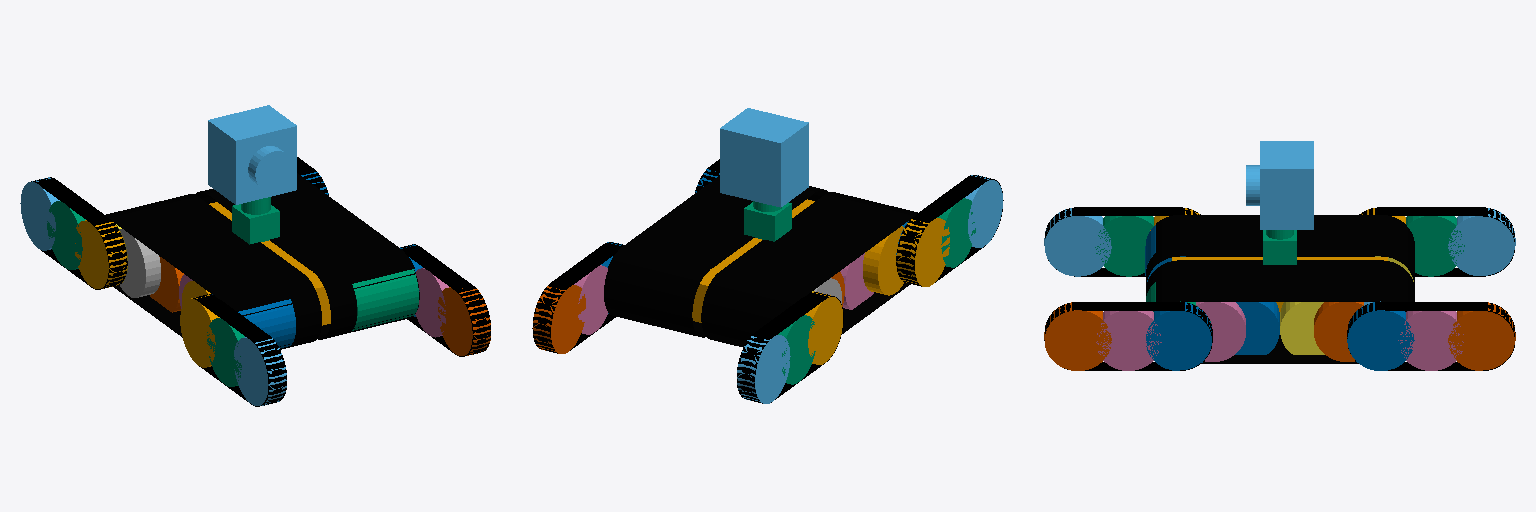
--- What the picture shows (computed from the rendered views, not written in the file) ---
3 views of the same robot in one strip: view 1: azimuth 30°, elevation 25°; view 2: azimuth 150°, elevation 25°; view 3: azimuth 270°, elevation 25° (orthographic).
Model crawler_robot with 31 links and 30 joints (30 fixed), rooted at crawler_robot__chassis, posed every joint at zero.
Visible links, largest first — view 1: crawler_robot__chassis, crawler_robot__camera_ros_link, crawler_robot__left_front_wheel, crawler_robot__right_front_arm, crawler_robot__right_rear_arm, crawler_robot__left_front_arm, crawler_robot__right_front_arm_wheel_2, crawler_robot__left_front_arm_wheel_2, crawler_robot__right_rear_arm_wheel_1, crawler_robot__right_sub_wheel_2, crawler_robot__hokuyo_ros_link, crawler_robot__right_front_arm_wheel_1 (+6 smaller); view 2: crawler_robot__chassis, crawler_robot__camera_ros_link, crawler_robot__right_rear_arm, crawler_robot__right_front_arm, crawler_robot__right_rear_arm_wheel_2, crawler_robot__left_rear_arm, crawler_robot__left_rear_arm_wheel_2, crawler_robot__right_front_arm_wheel_1, crawler_robot__right_sub_wheel_3, crawler_robot__right_front_arm_wheel_2, crawler_robot__right_rear_arm_wheel_1, crawler_robot__hokuyo_ros_link (+4 smaller); view 3: crawler_robot__chassis, crawler_robot__camera_ros_link, crawler_robot__right_front_arm_wheel_2, crawler_robot__left_front_arm_wheel_2, crawler_robot__left_rear_arm_wheel_1, crawler_robot__right_rear_arm_wheel_2, crawler_robot__left_rear_arm_wheel_2, crawler_robot__left_front_arm_wheel_1, crawler_robot__left_rear_arm_wheel_3, crawler_robot__left_front_arm_wheel_3, crawler_robot__right_front_arm_wheel_3, crawler_robot__right_rear_arm_wheel_3 (+9 smaller).
Boxes of the visible links, x1,y1,x2,y2 form: crawler_robot__chassis: [106, 173, 419, 349]; crawler_robot__camera_ros_link: [208, 105, 296, 204]; crawler_robot__left_front_wheel: [352, 269, 418, 330]; crawler_robot__right_front_arm: [193, 294, 286, 406]; crawler_robot__right_rear_arm: [31, 177, 127, 289]; crawler_robot__left_front_arm: [401, 244, 490, 356]; crawler_robot__right_front_arm_wheel_2: [234, 337, 286, 405]; crawler_robot__left_front_arm_wheel_2: [438, 287, 490, 355]; crawler_robot__right_rear_arm_wheel_1: [75, 220, 127, 288]; crawler_robot__right_sub_wheel_2: [119, 229, 160, 297]; crawler_robot__hokuyo_ros_link: [232, 197, 279, 244]; crawler_robot__right_front_arm_wheel_1: [180, 294, 219, 367]; crawler_robot__chassis: [604, 176, 917, 347]; crawler_robot__camera_ros_link: [720, 108, 808, 207]; crawler_robot__right_rear_arm: [737, 292, 843, 403]; crawler_robot__right_front_arm: [896, 175, 1003, 286]; crawler_robot__right_rear_arm_wheel_2: [737, 335, 790, 403]; crawler_robot__left_rear_arm: [532, 242, 623, 353]; crawler_robot__left_rear_arm_wheel_2: [533, 285, 585, 353]; crawler_robot__right_front_arm_wheel_1: [896, 218, 949, 286]; crawler_robot__right_sub_wheel_3: [863, 226, 903, 295]; crawler_robot__right_front_arm_wheel_2: [965, 175, 1002, 247]; crawler_robot__right_rear_arm_wheel_1: [805, 291, 842, 364]; crawler_robot__hokuyo_ros_link: [744, 201, 791, 241]; crawler_robot__chassis: [1146, 215, 1414, 363]; crawler_robot__camera_ros_link: [1246, 141, 1313, 229]; crawler_robot__right_front_arm_wheel_2: [1044, 208, 1111, 276]; crawler_robot__left_front_arm_wheel_2: [1044, 302, 1111, 370]; crawler_robot__left_rear_arm_wheel_1: [1347, 302, 1414, 370]; crawler_robot__right_rear_arm_wheel_2: [1448, 208, 1515, 275]; crawler_robot__left_rear_arm_wheel_2: [1448, 302, 1515, 370]; crawler_robot__left_front_arm_wheel_1: [1146, 302, 1211, 370]; crawler_robot__left_rear_arm_wheel_3: [1398, 311, 1463, 370]; crawler_robot__left_front_arm_wheel_3: [1096, 311, 1161, 370]; crawler_robot__right_front_arm_wheel_3: [1095, 216, 1153, 276]; crawler_robot__right_rear_arm_wheel_3: [1406, 216, 1464, 276].
Bounding box of the posed robot: 0.3622 × 0.7 × 0.28 m (x, y, z).
6 mesh visuals loaded from 2 distinct referenced files (2 Collada DAE).

The robot description file, URDF, robot "crawler_robot":
<?xml version="1.0" ?>
<robot name="crawler_robot">
  <joint name="crawler_robot__camera_joint" type="fixed">
    <parent link="crawler_robot__chassis"/>
    <child link="crawler_robot__camera_ros_link"/>
    <origin rpy="0    0   -1.57" xyz="0    0    0.22"/>
    <axis xyz="0  0  1"/>
    <limit effort="0.0" lower="0.0" upper="0.0" velocity="0.0"/>
  </joint>
  <joint name="crawler_robot__hokuyo_joint" type="fixed">
    <parent link="crawler_robot__chassis"/>
    <child link="crawler_robot__hokuyo_ros_link"/>
    <origin rpy="0    0   -1.57" xyz="0     0     0.135"/>
    <axis xyz="0  0  1"/>
    <limit effort="0.0" lower="0.0" upper="0.0" velocity="0.0"/>
  </joint>
  <joint name="crawler_robot__right_rear" type="fixed">
    <parent link="crawler_robot__chassis"/>
    <child link="crawler_robot__right_rear_wheel"/>
    <origin rpy="0      1.5707  0" xyz="-0.05  0.15  0.05"/>
    <axis xyz="0  0  1"/>
    <limit effort="0" lower="0" upper="0" velocity="0"/>
  </joint>
  <joint name="crawler_robot__right_front" type="fixed">
    <parent link="crawler_robot__chassis"/>
    <child link="crawler_robot__right_front_wheel"/>
    <origin rpy="0      1.5707  0" xyz="-0.05 -0.15  0.05"/>
    <axis xyz="0  0  1"/>
    <limit effort="0" lower="0" upper="0" velocity="0"/>
  </joint>
  <joint name="crawler_robot__right_center1" type="fixed">
    <parent link="crawler_robot__chassis"/>
    <child link="crawler_robot__right_center_wheel_1"/>
    <origin rpy="0      1.5707  0" xyz="-0.05  0.05  0.04"/>
    <axis xyz="0  0  1"/>
    <limit effort="0" lower="0" upper="0" velocity="0"/>
  </joint>
  <joint name="crawler_robot__right_center2" type="fixed">
    <parent link="crawler_robot__chassis"/>
    <child link="crawler_robot__right_center_wheel_2"/>
    <origin rpy="0      1.5707  0" xyz="-0.05 -0.05  0.04"/>
    <axis xyz="0  0  1"/>
    <limit effort="0" lower="0" upper="0" velocity="0"/>
  </joint>
  <joint name="crawler_robot__right_sub2" type="fixed">
    <parent link="crawler_robot__chassis"/>
    <child link="crawler_robot__right_sub_wheel_2"/>
    <origin rpy="0      1.5707  0" xyz="-0.15     0.1      0.04999"/>
    <axis xyz="0  0  1"/>
    <limit effort="0" lower="0" upper="0" velocity="0"/>
  </joint>
  <joint name="crawler_robot__right_sub3" type="fixed">
    <parent link="crawler_robot__chassis"/>
    <child link="crawler_robot__right_sub_wheel_3"/>
    <origin rpy="0      1.5707  0" xyz="-0.15    -0.1      0.04999"/>
    <axis xyz="0  0  1"/>
    <limit effort="0" lower="0" upper="0" velocity="0"/>
  </joint>
  <joint name="crawler_robot__left_rear" type="fixed">
    <parent link="crawler_robot__chassis"/>
    <child link="crawler_robot__left_rear_wheel"/>
    <origin rpy="0      1.5707  0" xyz="0.05     0.15     0.04999"/>
    <axis xyz="0  0  1"/>
    <limit effort="0" lower="0" upper="0" velocity="0"/>
  </joint>
  <joint name="crawler_robot__left_front" type="fixed">
    <parent link="crawler_robot__chassis"/>
    <child link="crawler_robot__left_front_wheel"/>
    <origin rpy="0      1.5707  0" xyz="0.05    -0.15     0.04999"/>
    <axis xyz="0  0  1"/>
    <limit effort="0" lower="0" upper="0" velocity="0"/>
  </joint>
  <joint name="crawler_robot__left_center1" type="fixed">
    <parent link="crawler_robot__chassis"/>
    <child link="crawler_robot__left_center_wheel_1"/>
    <origin rpy="0      1.5707  0" xyz="0.05     0.05     0.03999"/>
    <axis xyz="0  0  1"/>
    <limit effort="0" lower="0" upper="0" velocity="0"/>
  </joint>
  <joint name="crawler_robot__left_center2" type="fixed">
    <parent link="crawler_robot__chassis"/>
    <child link="crawler_robot__left_center_wheel_2"/>
    <origin rpy="0      1.5707  0" xyz="0.05    -0.05     0.03999"/>
    <axis xyz="0  0  1"/>
    <limit effort="0" lower="0" upper="0" velocity="0"/>
  </joint>
  <joint name="crawler_robot__left_sub2" type="fixed">
    <parent link="crawler_robot__chassis"/>
    <child link="crawler_robot__left_sub_wheel_2"/>
    <origin rpy="0      1.5707  0" xyz="0.05     0.1      0.04999"/>
    <axis xyz="0  0  1"/>
    <limit effort="0" lower="0" upper="0" velocity="0"/>
  </joint>
  <joint name="crawler_robot__left_sub3" type="fixed">
    <parent link="crawler_robot__chassis"/>
    <child link="crawler_robot__left_sub_wheel_3"/>
    <origin rpy="0      1.5707  0" xyz="0.05    -0.1      0.04999"/>
    <axis xyz="0  0  1"/>
    <limit effort="0" lower="0" upper="0" velocity="0"/>
  </joint>
  <joint name="crawler_robot__left_rear_arm" type="fixed">
    <parent link="crawler_robot__chassis"/>
    <child link="crawler_robot__left_rear_arm"/>
    <origin rpy="0  0  0" xyz="0.151  0.15   0.051"/>
    <axis xyz="1  0  0"/>
    <limit effort="0.0" lower="0.0" upper="0.0" velocity="1.0"/>
  </joint>
  <joint name="crawler_robot__right_rear_arm" type="fixed">
    <parent link="crawler_robot__chassis"/>
    <child link="crawler_robot__right_rear_arm"/>
    <origin rpy="0  0  0" xyz="-0.151  0.15   0.049"/>
    <axis xyz="1  0  0"/>
    <limit effort="0.0" lower="0.0" upper="0.0" velocity="1.0"/>
  </joint>
  <joint name="crawler_robot__left_front_arm" type="fixed">
    <parent link="crawler_robot__chassis"/>
    <child link="crawler_robot__left_front_arm"/>
    <origin rpy="0  0  0" xyz="0.151 -0.15   0.051"/>
    <axis xyz="1  0  0"/>
    <limit effort="0.0" lower="0.0" upper="0.0" velocity="1.0"/>
  </joint>
  <joint name="crawler_robot__right_front_arm" type="fixed">
    <parent link="crawler_robot__chassis"/>
    <child link="crawler_robot__right_front_arm"/>
    <origin rpy="0  0  0" xyz="-0.151 -0.15   0.049"/>
    <axis xyz="1  0  0"/>
    <limit effort="0.0" lower="0.0" upper="0.0" velocity="1.0"/>
  </joint>
  <joint name="crawler_robot__right_rear_arm_wheel_1" type="fixed">
    <parent link="crawler_robot__right_rear_arm"/>
    <child link="crawler_robot__right_rear_arm_wheel_1"/>
    <origin rpy="0      1.5707  0" xyz="0     0     0.001"/>
    <axis xyz="0  0  1"/>
    <limit effort="0" lower="0" upper="0" velocity="0"/>
  </joint>
  <joint name="crawler_robot__right_rear_arm_wheel_2" type="fixed">
    <parent link="crawler_robot__right_rear_arm"/>
    <child link="crawler_robot__right_rear_arm_wheel_2"/>
    <origin rpy="0      1.5707  0" xyz="0     0.15   0.001"/>
    <axis xyz="0  0  1"/>
    <limit effort="0" lower="0" upper="0" velocity="0"/>
  </joint>
  <joint name="crawler_robot__right_rear_arm_wheel_3" type="fixed">
    <parent link="crawler_robot__right_rear_arm"/>
    <child link="crawler_robot__right_rear_arm_wheel_3"/>
    <origin rpy="0      1.5707  0" xyz="0     0.075  0.001"/>
    <axis xyz="0  0  1"/>
    <limit effort="0" lower="0" upper="0" velocity="0"/>
  </joint>
  <joint name="crawler_robot__right_front_arm_wheel_1" type="fixed">
    <parent link="crawler_robot__right_front_arm"/>
    <child link="crawler_robot__right_front_arm_wheel_1"/>
    <origin rpy="0      1.5707  0" xyz="0     0     0.001"/>
    <axis xyz="0  0  1"/>
    <limit effort="0" lower="0" upper="0" velocity="0"/>
  </joint>
  <joint name="crawler_robot__right_front_arm_wheel_2" type="fixed">
    <parent link="crawler_robot__right_front_arm"/>
    <child link="crawler_robot__right_front_arm_wheel_2"/>
    <origin rpy="0      1.5707  0" xyz="0    -0.15   0.001"/>
    <axis xyz="0  0  1"/>
    <limit effort="0" lower="0" upper="0" velocity="0"/>
  </joint>
  <joint name="crawler_robot__right_front_arm_wheel_3" type="fixed">
    <parent link="crawler_robot__right_front_arm"/>
    <child link="crawler_robot__right_front_arm_wheel_3"/>
    <origin rpy="0      1.5707  0" xyz="0    -0.075  0.001"/>
    <axis xyz="0  0  1"/>
    <limit effort="0" lower="0" upper="0" velocity="0"/>
  </joint>
  <joint name="crawler_robot__left_rear_arm_wheel_1" type="fixed">
    <parent link="crawler_robot__left_rear_arm"/>
    <child link="crawler_robot__left_rear_arm_wheel_1"/>
    <origin rpy="0      1.5707  0" xyz="0     0    -0.001"/>
    <axis xyz="0  0  1"/>
    <limit effort="0" lower="0" upper="0" velocity="0"/>
  </joint>
  <joint name="crawler_robot__left_rear_arm_wheel_2" type="fixed">
    <parent link="crawler_robot__left_rear_arm"/>
    <child link="crawler_robot__left_rear_arm_wheel_2"/>
    <origin rpy="0      1.5707  0" xyz="0     0.15  -0.001"/>
    <axis xyz="0  0  1"/>
    <limit effort="0" lower="0" upper="0" velocity="0"/>
  </joint>
  <joint name="crawler_robot__left_rear_arm_wheel_3" type="fixed">
    <parent link="crawler_robot__left_rear_arm"/>
    <child link="crawler_robot__left_rear_arm_wheel_3"/>
    <origin rpy="0      1.5707  0" xyz="0     0.075 -0.001"/>
    <axis xyz="0  0  1"/>
    <limit effort="0" lower="0" upper="0" velocity="0"/>
  </joint>
  <joint name="crawler_robot__left_front_arm_wheel_1" type="fixed">
    <parent link="crawler_robot__left_front_arm"/>
    <child link="crawler_robot__left_front_arm_wheel_1"/>
    <origin rpy="0      1.5707  0" xyz="0     0    -0.001"/>
    <axis xyz="0  0  1"/>
    <limit effort="0" lower="0" upper="0" velocity="0"/>
  </joint>
  <joint name="crawler_robot__left_front_arm_wheel_2" type="fixed">
    <parent link="crawler_robot__left_front_arm"/>
    <child link="crawler_robot__left_front_arm_wheel_2"/>
    <origin rpy="0      1.5707  0" xyz="0    -0.15  -0.001"/>
    <axis xyz="0  0  1"/>
    <limit effort="0" lower="0" upper="0" velocity="0"/>
  </joint>
  <joint name="crawler_robot__left_front_arm_wheel_3" type="fixed">
    <parent link="crawler_robot__left_front_arm"/>
    <child link="crawler_robot__left_front_arm_wheel_3"/>
    <origin rpy="0      1.5707  0" xyz="0    -0.075 -0.001"/>
    <axis xyz="0  0  1"/>
    <limit effort="0" lower="0" upper="0" velocity="0"/>
  </joint>
  <link name="crawler_robot__chassis">
    <inertial>
      <mass value="20"/>
      <origin rpy="0  0  0" xyz="0    0    0.05"/>
      <inertia ixx="1.696e-01" ixy="0" ixz="0" iyy="2.176e-02" iyz="0" izz="1.7984e-01"/>
    </inertial>
    <collision name="crawler_robot__collision">
      <origin rpy="0  0  0" xyz="0    0    0.05"/>
      <geometry>
        <box size=".1 .32 .06"/>
      </geometry>
    </collision>
    <visual name="crawler_robot__visual">
      <origin rpy="0  0  0" xyz="0    0    0.05"/>
      <geometry>
        <box size=".1 .32 .06"/>
      </geometry>
    </visual>
    <visual name="crawler_robot__crawler_visual_R">
      <origin rpy="0      0      1.5707" xyz="-0.08  0    0.05"/>
      <geometry>
        <mesh filename="package://PATHTOMESHES/dae/crawler.dae" scale="1.0 1.0 1.0"/>
      </geometry>
    </visual>
    <visual name="crawler_robot__crawler_visual_L">
      <origin rpy="0      0      1.5707" xyz="0.08  0    0.05"/>
      <geometry>
        <mesh filename="package://PATHTOMESHES/dae/crawler.dae" scale="1.0 1.0 1.0"/>
      </geometry>
    </visual>
  </link>
  <link name="crawler_robot__camera_ros_link">
    <inertial>
      <mass value="0.1"/>
      <origin rpy="0  0  0" xyz="0  0  0"/>
      <inertia ixx="0.000166667" ixy="0" ixz="0" iyy="0.000166667" iyz="0" izz="0.000166667"/>
    </inertial>
    <collision name="crawler_robot__collision-box">
      <origin rpy="0  0  0" xyz="-0.01  0    0"/>
      <geometry>
        <box size="0.08 0.1 0.1"/>
      </geometry>
    </collision>
    <collision name="crawler_robot__collision-lens">
      <origin rpy="0    1.57  0" xyz="0.04  0    0"/>
      <geometry>
        <cylinder length="0.02" radius="0.03"/>
      </geometry>
    </collision>
    <visual name="crawler_robot__visual-box">
      <origin rpy="0  0  0" xyz="-0.01  0    0"/>
      <geometry>
        <box size="0.08 0.1 0.1"/>
      </geometry>
    </visual>
    <visual name="crawler_robot__visual-lens">
      <origin rpy="0    1.57  0" xyz="0.04  0    0"/>
      <geometry>
        <cylinder length="0.02" radius="0.03"/>
      </geometry>
    </visual>
  </link>
  <link name="crawler_robot__hokuyo_ros_link">
    <inertial>
      <mass value="0.1"/>
      <origin rpy="0  0  0" xyz="0  0  0"/>
      <inertia ixx="0.6205208333e-04" ixy="0" ixz="0" iyy="0.6205208333e-04" iyz="0" izz="4.1927083333e-05"/>
    </inertial>
    <collision name="crawler_robot__collision-base">
      <origin rpy="0  0  0" xyz="0      0     -0.0145"/>
      <geometry>
        <box size="0.05 0.05 0.041"/>
      </geometry>
    </collision>
    <collision name="crawler_robot__collision-top">
      <origin rpy="0  0  0" xyz="0      0      0.0205"/>
      <geometry>
        <cylinder length="0.029" radius="0.021"/>
      </geometry>
    </collision>
    <visual name="crawler_robot__visual-base">
      <origin rpy="0  0  0" xyz="0      0     -0.0145"/>
      <geometry>
        <box size="0.05 0.05 0.041"/>
      </geometry>
    </visual>
    <visual name="crawler_robot__visual-top">
      <origin rpy="0  0  0" xyz="0      0      0.0205"/>
      <geometry>
        <cylinder length="0.029" radius="0.021"/>
      </geometry>
    </visual>
  </link>
  <link name="crawler_robot__right_rear_wheel">
    <inertial>
      <mass value="1.0"/>
      <origin rpy="0  0  0" xyz="0    0   -0.05"/>
      <inertia ixx="1.3744467859e-03" ixy="0" ixz="0" iyy="1.3744467859e-03" iyz="0" izz="11.780972451e-04"/>
    </inertial>
    <collision name="crawler_robot__collision">
      <origin rpy="0  0  0" xyz="0    0   -0.05"/>
      <geometry>
        <cylinder length=".1" radius=".05"/>
      </geometry>
    </collision>
    <visual name="crawler_robot__visual">
      <origin rpy="0  0  0" xyz="0    0   -0.05"/>
      <geometry>
        <cylinder length=".1" radius=".05"/>
      </geometry>
    </visual>
  </link>
  <link name="crawler_robot__right_front_wheel">
    <inertial>
      <mass value="1.0"/>
      <origin rpy="0  0  0" xyz="0    0   -0.05"/>
      <inertia ixx="1.3744467859e-03" ixy="0" ixz="0" iyy="1.3744467859e-03" iyz="0" izz="11.780972451e-04"/>
    </inertial>
    <collision name="crawler_robot__collision">
      <origin rpy="0  0  0" xyz="0    0   -0.05"/>
      <geometry>
        <cylinder length=".1" radius=".05"/>
      </geometry>
    </collision>
    <visual name="crawler_robot__visual">
      <origin rpy="0  0  0" xyz="0    0   -0.05"/>
      <geometry>
        <cylinder length=".1" radius=".05"/>
      </geometry>
    </visual>
  </link>
  <link name="crawler_robot__right_center_wheel_1">
    <inertial>
      <mass value="1.0"/>
      <origin rpy="0  0  0" xyz="0    0   -0.05"/>
      <inertia ixx="7.5267323992e-04" ixy="0" ixz="0" iyy="7.5267323992e-04" iyz="0" izz="11.2900985988e-04"/>
    </inertial>
    <collision name="crawler_robot__collision">
      <origin rpy="0  0  0" xyz="0    0   -0.05"/>
      <geometry>
        <cylinder length=".05" radius=".05"/>
      </geometry>
    </collision>
    <visual name="crawler_robot__visual">
      <origin rpy="0  0  0" xyz="0    0   -0.05"/>
      <geometry>
        <cylinder length=".05" radius=".05"/>
      </geometry>
    </visual>
  </link>
  <link name="crawler_robot__right_center_wheel_2">
    <inertial>
      <mass value="1.0"/>
      <origin rpy="0  0  0" xyz="0    0   -0.05"/>
      <inertia ixx="7.5267323992e-04" ixy="0" ixz="0" iyy="7.5267323992e-04" iyz="0" izz="11.2900985988e-04"/>
    </inertial>
    <collision name="crawler_robot__collision">
      <origin rpy="0  0  0" xyz="0    0   -0.05"/>
      <geometry>
        <cylinder length=".05" radius=".05"/>
      </geometry>
    </collision>
    <visual name="crawler_robot__visual">
      <origin rpy="0  0  0" xyz="0    0   -0.05"/>
      <geometry>
        <cylinder length=".05" radius=".05"/>
      </geometry>
    </visual>
  </link>
  <link name="crawler_robot__right_sub_wheel_2">
    <inertial>
      <mass value="1.0"/>
      <origin rpy="0  0  0" xyz="0    0    0.05"/>
      <inertia ixx="1.3744467859e-03" ixy="0" ixz="0" iyy="1.3744467859e-03" iyz="0" izz="11.780972451e-04"/>
    </inertial>
    <collision name="crawler_robot__collision">
      <origin rpy="0  0  0" xyz="0    0    0.05"/>
      <geometry>
        <cylinder length=".1" radius=".05"/>
      </geometry>
    </collision>
    <visual name="crawler_robot__visual">
      <origin rpy="0  0  0" xyz="0    0    0.05"/>
      <geometry>
        <cylinder length=".1" radius=".05"/>
      </geometry>
    </visual>
  </link>
  <link name="crawler_robot__right_sub_wheel_3">
    <inertial>
      <mass value="1.0"/>
      <origin rpy="0  0  0" xyz="0    0    0.05"/>
      <inertia ixx="1.3744467859e-03" ixy="0" ixz="0" iyy="1.3744467859e-03" iyz="0" izz="11.780972451e-04"/>
    </inertial>
    <collision name="crawler_robot__collision">
      <origin rpy="0  0  0" xyz="0    0    0.05"/>
      <geometry>
        <cylinder length=".1" radius=".05"/>
      </geometry>
    </collision>
    <visual name="crawler_robot__visual">
      <origin rpy="0  0  0" xyz="0    0    0.05"/>
      <geometry>
        <cylinder length=".1" radius=".05"/>
      </geometry>
    </visual>
  </link>
  <link name="crawler_robot__left_rear_wheel">
    <inertial>
      <mass value="1.0"/>
      <origin rpy="0  0  0" xyz="0    0    0.05"/>
      <inertia ixx="1.3744467859e-03" ixy="0" ixz="0" iyy="1.3744467859e-03" iyz="0" izz="11.780972451e-04"/>
    </inertial>
    <collision name="crawler_robot__collision">
      <origin rpy="0  0  0" xyz="0    0    0.05"/>
      <geometry>
        <cylinder length=".1" radius=".05"/>
      </geometry>
    </collision>
    <visual name="crawler_robot__visual">
      <origin rpy="0  0  0" xyz="0    0    0.05"/>
      <geometry>
        <cylinder length=".1" radius=".05"/>
      </geometry>
    </visual>
  </link>
  <link name="crawler_robot__left_front_wheel">
    <inertial>
      <mass value="1.0"/>
      <origin rpy="0  0  0" xyz="0    0    0.05"/>
      <inertia ixx="1.3744467859e-03" ixy="0" ixz="0" iyy="1.3744467859e-03" iyz="0" izz="11.780972451e-04"/>
    </inertial>
    <collision name="crawler_robot__collision">
      <origin rpy="0  0  0" xyz="0    0    0.05"/>
      <geometry>
        <cylinder length=".1" radius=".05"/>
      </geometry>
    </collision>
    <visual name="crawler_robot__visual">
      <origin rpy="0  0  0" xyz="0    0    0.05"/>
      <geometry>
        <cylinder length=".1" radius=".05"/>
      </geometry>
    </visual>
  </link>
  <link name="crawler_robot__left_center_wheel_1">
    <inertial>
      <mass value="1.0"/>
      <origin rpy="0  0  0" xyz="0    0    0.05"/>
      <inertia ixx="7.5267323992e-04" ixy="0" ixz="0" iyy="7.5267323992e-04" iyz="0" izz="11.2900985988e-04"/>
    </inertial>
    <collision name="crawler_robot__collision">
      <origin rpy="0  0  0" xyz="0    0    0.05"/>
      <geometry>
        <cylinder length=".05" radius=".05"/>
      </geometry>
    </collision>
    <visual name="crawler_robot__visual">
      <origin rpy="0  0  0" xyz="0    0    0.05"/>
      <geometry>
        <cylinder length=".05" radius=".05"/>
      </geometry>
    </visual>
  </link>
  <link name="crawler_robot__left_center_wheel_2">
    <inertial>
      <mass value="1.0"/>
      <origin rpy="0  0  0" xyz="0    0    0.05"/>
      <inertia ixx="7.5267323992e-04" ixy="0" ixz="0" iyy="7.5267323992e-04" iyz="0" izz="11.2900985988e-04"/>
    </inertial>
    <collision name="crawler_robot__collision">
      <origin rpy="0  0  0" xyz="0    0    0.05"/>
      <geometry>
        <cylinder length=".05" radius=".05"/>
      </geometry>
    </collision>
    <visual name="crawler_robot__visual">
      <origin rpy="0  0  0" xyz="0    0    0.05"/>
      <geometry>
        <cylinder length=".05" radius=".05"/>
      </geometry>
    </visual>
  </link>
  <link name="crawler_robot__left_sub_wheel_2">
    <inertial>
      <mass value="1.0"/>
      <origin rpy="0  0  0" xyz="0    0    0.05"/>
      <inertia ixx="1.3744467859e-03" ixy="0" ixz="0" iyy="1.3744467859e-03" iyz="0" izz="11.780972451e-04"/>
    </inertial>
    <collision name="crawler_robot__collision">
      <origin rpy="0  0  0" xyz="0    0    0.05"/>
      <geometry>
        <cylinder length=".1" radius=".05"/>
      </geometry>
    </collision>
    <visual name="crawler_robot__visual">
      <origin rpy="0  0  0" xyz="0    0    0.05"/>
      <geometry>
        <cylinder length=".1" radius=".05"/>
      </geometry>
    </visual>
  </link>
  <link name="crawler_robot__left_sub_wheel_3">
    <inertial>
      <mass value="1.0"/>
      <origin rpy="0  0  0" xyz="0    0    0.05"/>
      <inertia ixx="1.3744467859e-03" ixy="0" ixz="0" iyy="1.3744467859e-03" iyz="0" izz="11.780972451e-04"/>
    </inertial>
    <collision name="crawler_robot__collision">
      <origin rpy="0  0  0" xyz="0    0    0.05"/>
      <geometry>
        <cylinder length=".1" radius=".05"/>
      </geometry>
    </collision>
    <visual name="crawler_robot__visual">
      <origin rpy="0  0  0" xyz="0    0    0.05"/>
      <geometry>
        <cylinder length=".1" radius=".05"/>
      </geometry>
    </visual>
  </link>
  <link name="crawler_robot__right_rear_arm">
    <inertial>
      <mass value="1.0"/>
      <origin rpy="1.57  0    1.57" xyz="-0.015  0.075  0.001"/>
      <inertia ixx="6.8125e-4" ixy="0" ixz="0" iyy="3.96253e-3" iyz="0" izz="4.53125e-3"/>
    </inertial>
    <visual name="crawler_robot__crawler_visual">
      <origin rpy="0    0    1.57" xyz="-0.015  0.075 -0.049"/>
      <geometry>
        <mesh filename="package://PATHTOMESHES/dae/arm_crawler_2.dae" scale="1.0 1.0 1.0"/>
      </geometry>
    </visual>
  </link>
  <link name="crawler_robot__right_rear_arm_wheel_1">
    <inertial>
      <mass value="1.0"/>
      <origin rpy="0  0  0" xyz="0     0    -0.015"/>
      <inertia ixx="6.2674773439e-04" ixy="0" ixz="0" iyy="6.2674773439e-04" iyz="0" izz="11.1919238284e-04"/>
    </inertial>
    <collision name="crawler_robot__collision">
      <origin rpy="0  0  0" xyz="0     0    -0.015"/>
      <geometry>
        <cylinder length=".03" radius=".05"/>
      </geometry>
    </collision>
    <visual name="crawler_robot__visual">
      <origin rpy="0  0  0" xyz="0     0    -0.015"/>
      <geometry>
        <cylinder length=".03" radius=".05"/>
      </geometry>
    </visual>
  </link>
  <link name="crawler_robot__right_rear_arm_wheel_2">
    <inertial>
      <mass value="1.0"/>
      <origin rpy="0  0  0" xyz="0     0    -0.015"/>
      <inertia ixx="6.2674773439e-04" ixy="0" ixz="0" iyy="6.2674773439e-04" iyz="0" izz="11.1919238284e-04"/>
    </inertial>
    <collision name="crawler_robot__collision">
      <origin rpy="0  0  0" xyz="0     0    -0.015"/>
      <geometry>
        <cylinder length=".03" radius=".05"/>
      </geometry>
    </collision>
    <visual name="crawler_robot__visual">
      <origin rpy="0  0  0" xyz="0     0    -0.015"/>
      <geometry>
        <cylinder length=".03" radius=".05"/>
      </geometry>
    </visual>
  </link>
  <link name="crawler_robot__right_rear_arm_wheel_3">
    <inertial>
      <mass value="1.0"/>
      <origin rpy="0  0  0" xyz="0     0    -0.015"/>
      <inertia ixx="6.2674773439e-04" ixy="0" ixz="0" iyy="6.2674773439e-04" iyz="0" izz="11.1919238284e-04"/>
    </inertial>
    <collision name="crawler_robot__collision">
      <origin rpy="0  0  0" xyz="0     0    -0.015"/>
      <geometry>
        <cylinder length=".03" radius=".05"/>
      </geometry>
    </collision>
    <visual name="crawler_robot__visual">
      <origin rpy="0  0  0" xyz="0     0    -0.015"/>
      <geometry>
        <cylinder length=".03" radius=".05"/>
      </geometry>
    </visual>
  </link>
  <link name="crawler_robot__left_rear_arm">
    <inertial>
      <mass value="1.0"/>
      <origin rpy="1.57  0    1.57" xyz="0.015  0.075 -0.001"/>
      <inertia ixx="6.8125e-4" ixy="0" ixz="0" iyy="3.96253e-3" iyz="0" izz="4.53125e-3"/>
    </inertial>
    <visual name="crawler_robot__crawler_visual">
      <origin rpy="0    0    1.57" xyz="0.015  0.075 -0.051"/>
      <geometry>
        <mesh filename="package://PATHTOMESHES/dae/arm_crawler_2.dae" scale="1.0 1.0 1.0"/>
      </geometry>
    </visual>
  </link>
  <link name="crawler_robot__left_rear_arm_wheel_1">
    <inertial>
      <mass value="1.0"/>
      <origin rpy="0  0  0" xyz="0     0     0.015"/>
      <inertia ixx="6.2674773439e-04" ixy="0" ixz="0" iyy="6.2674773439e-04" iyz="0" izz="11.1919238284e-04"/>
    </inertial>
    <collision name="crawler_robot__collision">
      <origin rpy="0  0  0" xyz="0     0     0.015"/>
      <geometry>
        <cylinder length=".03" radius=".05"/>
      </geometry>
    </collision>
    <visual name="crawler_robot__visual">
      <origin rpy="0  0  0" xyz="0     0     0.015"/>
      <geometry>
        <cylinder length=".03" radius=".05"/>
      </geometry>
    </visual>
  </link>
  <link name="crawler_robot__left_rear_arm_wheel_2">
    <inertial>
      <mass value="1.0"/>
      <origin rpy="0  0  0" xyz="0     0     0.015"/>
      <inertia ixx="6.2674773439e-04" ixy="0" ixz="0" iyy="6.2674773439e-04" iyz="0" izz="11.1919238284e-04"/>
    </inertial>
    <collision name="crawler_robot__collision">
      <origin rpy="0  0  0" xyz="0     0     0.015"/>
      <geometry>
        <cylinder length=".03" radius=".05"/>
      </geometry>
    </collision>
    <visual name="crawler_robot__visual">
      <origin rpy="0  0  0" xyz="0     0     0.015"/>
      <geometry>
        <cylinder length=".03" radius=".05"/>
      </geometry>
    </visual>
  </link>
  <link name="crawler_robot__left_rear_arm_wheel_3">
    <inertial>
      <mass value="1.0"/>
      <origin rpy="0  0  0" xyz="0     0     0.015"/>
      <inertia ixx="6.2674773439e-04" ixy="0" ixz="0" iyy="6.2674773439e-04" iyz="0" izz="11.1919238284e-04"/>
    </inertial>
    <collision name="crawler_robot__collision">
      <origin rpy="0  0  0" xyz="0     0     0.015"/>
      <geometry>
        <cylinder length=".03" radius=".05"/>
      </geometry>
    </collision>
    <visual name="crawler_robot__visual">
      <origin rpy="0  0  0" xyz="0     0     0.015"/>
      <geometry>
        <cylinder length=".03" radius=".05"/>
      </geometry>
    </visual>
  </link>
  <link name="crawler_robot__right_front_arm">
    <inertial>
      <mass value="1.0"/>
      <origin rpy="1.57  0    1.57" xyz="-0.015 -0.075  0.001"/>
      <inertia ixx="6.8125e-4" ixy="0" ixz="0" iyy="3.96253e-3" iyz="0" izz="4.53125e-3"/>
    </inertial>
    <visual name="crawler_robot__crawler_visual">
      <origin rpy="0    0    1.57" xyz="-0.015 -0.075 -0.049"/>
      <geometry>
        <mesh filename="package://PATHTOMESHES/dae/arm_crawler_2.dae" scale="1.0 1.0 1.0"/>
      </geometry>
    </visual>
  </link>
  <link name="crawler_robot__right_front_arm_wheel_1">
    <inertial>
      <mass value="1.0"/>
      <origin rpy="0  0  0" xyz="0     0    -0.015"/>
      <inertia ixx="6.2674773439e-04" ixy="0" ixz="0" iyy="6.2674773439e-04" iyz="0" izz="11.1919238284e-04"/>
    </inertial>
    <collision name="crawler_robot__collision">
      <origin rpy="0  0  0" xyz="0     0    -0.015"/>
      <geometry>
        <cylinder length=".03" radius=".05"/>
      </geometry>
    </collision>
    <visual name="crawler_robot__visual">
      <origin rpy="0  0  0" xyz="0     0    -0.015"/>
      <geometry>
        <cylinder length=".03" radius=".05"/>
      </geometry>
    </visual>
  </link>
  <link name="crawler_robot__right_front_arm_wheel_2">
    <inertial>
      <mass value="1.0"/>
      <origin rpy="0  0  0" xyz="0     0    -0.015"/>
      <inertia ixx="6.2674773439e-04" ixy="0" ixz="0" iyy="6.2674773439e-04" iyz="0" izz="11.1919238284e-04"/>
    </inertial>
    <collision name="crawler_robot__collision">
      <origin rpy="0  0  0" xyz="0     0    -0.015"/>
      <geometry>
        <cylinder length=".03" radius=".05"/>
      </geometry>
    </collision>
    <visual name="crawler_robot__visual">
      <origin rpy="0  0  0" xyz="0     0    -0.015"/>
      <geometry>
        <cylinder length=".03" radius=".05"/>
      </geometry>
    </visual>
  </link>
  <link name="crawler_robot__right_front_arm_wheel_3">
    <inertial>
      <mass value="1.0"/>
      <origin rpy="0  0  0" xyz="0     0    -0.015"/>
      <inertia ixx="6.2674773439e-04" ixy="0" ixz="0" iyy="6.2674773439e-04" iyz="0" izz="11.1919238284e-04"/>
    </inertial>
    <collision name="crawler_robot__collision">
      <origin rpy="0  0  0" xyz="0     0    -0.015"/>
      <geometry>
        <cylinder length=".03" radius=".05"/>
      </geometry>
    </collision>
    <visual name="crawler_robot__visual">
      <origin rpy="0  0  0" xyz="0     0    -0.015"/>
      <geometry>
        <cylinder length=".03" radius=".05"/>
      </geometry>
    </visual>
  </link>
  <link name="crawler_robot__left_front_arm">
    <inertial>
      <mass value="1.0"/>
      <origin rpy="1.57  0    1.57" xyz="0.015 -0.075 -0.001"/>
      <inertia ixx="6.8125e-4" ixy="0" ixz="0" iyy="3.96253e-3" iyz="0" izz="4.53125e-3"/>
    </inertial>
    <visual name="crawler_robot__crawler_visual">
      <origin rpy="0    0    1.57" xyz="0.015 -0.075 -0.051"/>
      <geometry>
        <mesh filename="package://PATHTOMESHES/dae/arm_crawler_2.dae" scale="1.0 1.0 1.0"/>
      </geometry>
    </visual>
  </link>
  <link name="crawler_robot__left_front_arm_wheel_1">
    <inertial>
      <mass value="1.0"/>
      <origin rpy="0  0  0" xyz="0     0     0.015"/>
      <inertia ixx="6.2674773439e-04" ixy="0" ixz="0" iyy="6.2674773439e-04" iyz="0" izz="11.1919238284e-04"/>
    </inertial>
    <collision name="crawler_robot__collision">
      <origin rpy="0  0  0" xyz="0     0     0.015"/>
      <geometry>
        <cylinder length=".03" radius=".05"/>
      </geometry>
    </collision>
    <visual name="crawler_robot__visual">
      <origin rpy="0  0  0" xyz="0     0     0.015"/>
      <geometry>
        <cylinder length=".03" radius=".05"/>
      </geometry>
    </visual>
  </link>
  <link name="crawler_robot__left_front_arm_wheel_2">
    <inertial>
      <mass value="1.0"/>
      <origin rpy="0  0  0" xyz="0     0     0.015"/>
      <inertia ixx="6.2674773439e-04" ixy="0" ixz="0" iyy="6.2674773439e-04" iyz="0" izz="11.1919238284e-04"/>
    </inertial>
    <collision name="crawler_robot__collision">
      <origin rpy="0  0  0" xyz="0     0     0.015"/>
      <geometry>
        <cylinder length=".03" radius=".05"/>
      </geometry>
    </collision>
    <visual name="crawler_robot__visual">
      <origin rpy="0  0  0" xyz="0     0     0.015"/>
      <geometry>
        <cylinder length=".03" radius=".05"/>
      </geometry>
    </visual>
  </link>
  <link name="crawler_robot__left_front_arm_wheel_3">
    <inertial>
      <mass value="1.0"/>
      <origin rpy="0  0  0" xyz="0     0     0.015"/>
      <inertia ixx="6.2674773439e-04" ixy="0" ixz="0" iyy="6.2674773439e-04" iyz="0" izz="11.1919238284e-04"/>
    </inertial>
    <collision name="crawler_robot__collision">
      <origin rpy="0  0  0" xyz="0     0     0.015"/>
      <geometry>
        <cylinder length=".03" radius=".05"/>
      </geometry>
    </collision>
    <visual name="crawler_robot__visual">
      <origin rpy="0  0  0" xyz="0     0     0.015"/>
      <geometry>
        <cylinder length=".03" radius=".05"/>
      </geometry>
    </visual>
  </link>
</robot>
